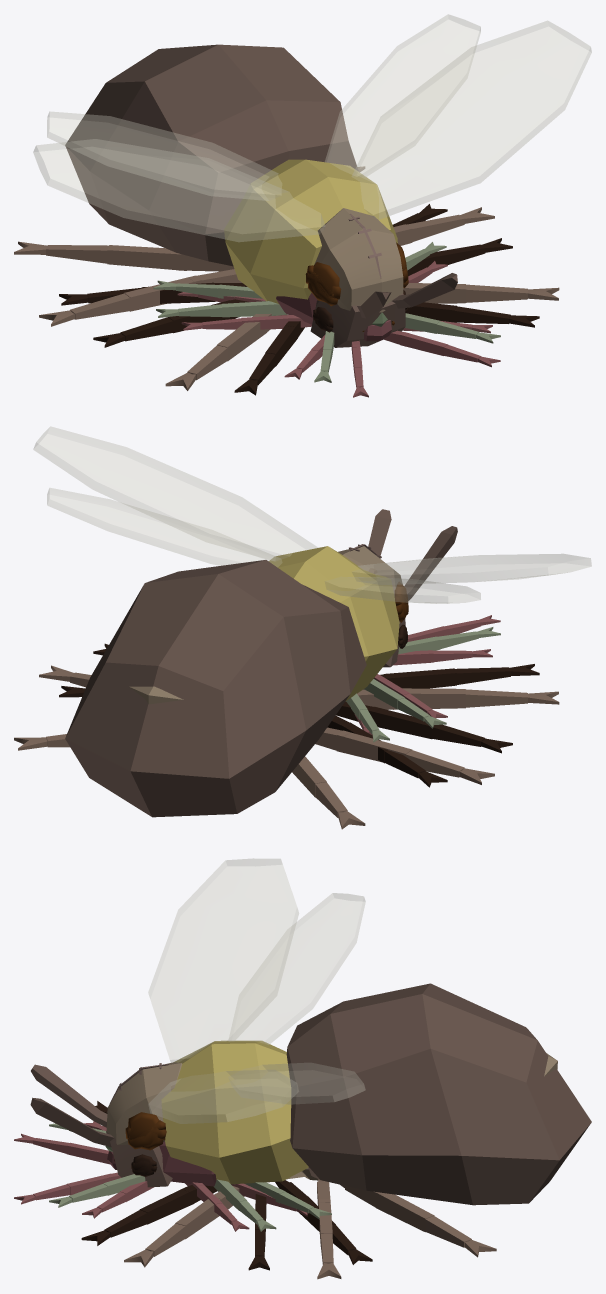
File: bugs_temp.fbx
3 renders of one model, top to bottom at view 1: azimuth 30°, elevation 25°; view 2: azimuth 150°, elevation 25°; view 3: azimuth 270°, elevation 25°, orthographic. The views are drawn at different scales.
Parts seen in each view (by area): view 1: BumbleBee_temp, Ant_temp, Mite_temp, Aphid_temp; view 2: BumbleBee_temp, Ant_temp, Aphid_temp, Mite_temp; view 3: BumbleBee_temp, Ant_temp, Mite_temp, Aphid_temp.
Part boxes in pixels (x1,y1,x2,y2): BumbleBee_temp: (33, 14, 591, 395); Ant_temp: (14, 166, 559, 390); Mite_temp: (177, 261, 500, 397); Aphid_temp: (153, 242, 500, 382); BumbleBee_temp: (33, 426, 591, 817); Ant_temp: (14, 544, 559, 829); Aphid_temp: (346, 627, 500, 742); Mite_temp: (354, 615, 500, 735); BumbleBee_temp: (30, 858, 591, 1270); Ant_temp: (106, 1053, 557, 1279); Mite_temp: (14, 1121, 307, 1231); Aphid_temp: (49, 1123, 331, 1231).
Size of the model in its own units: 6.89 by 2.58 by 6.57.
